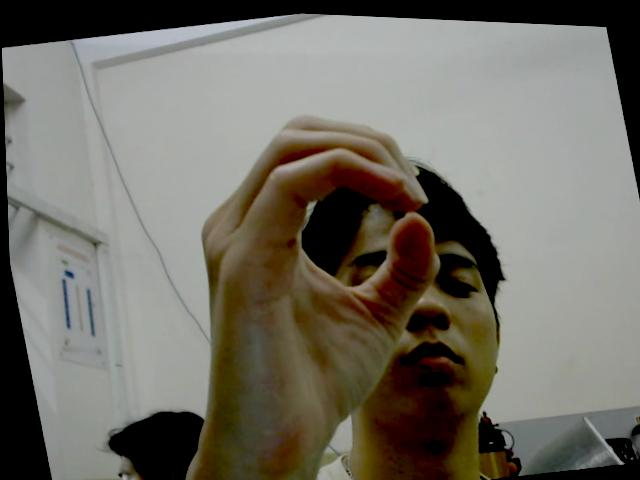C: (162, 88, 468, 459)
